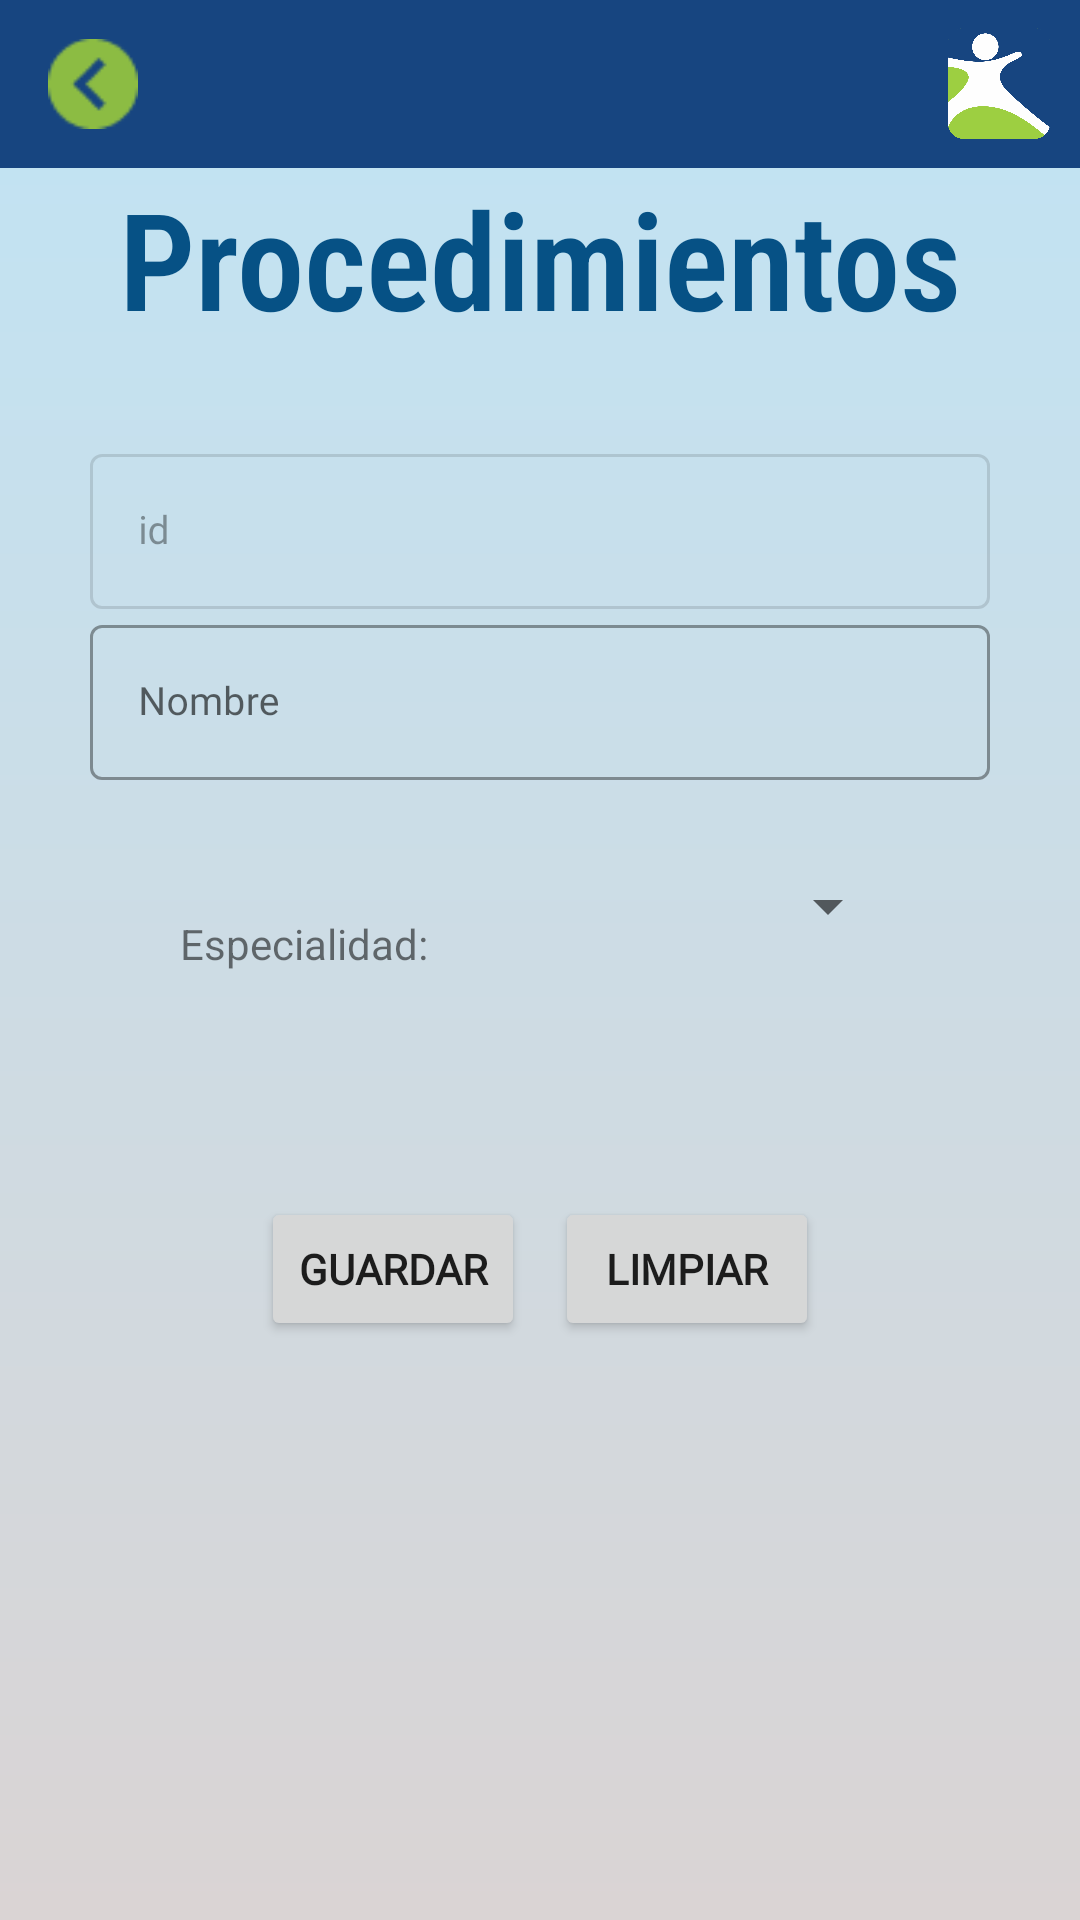

Named icons in this screenshot (1080 × 1920) and their centers, (x=x, y=y):
back: (x=93, y=84)
